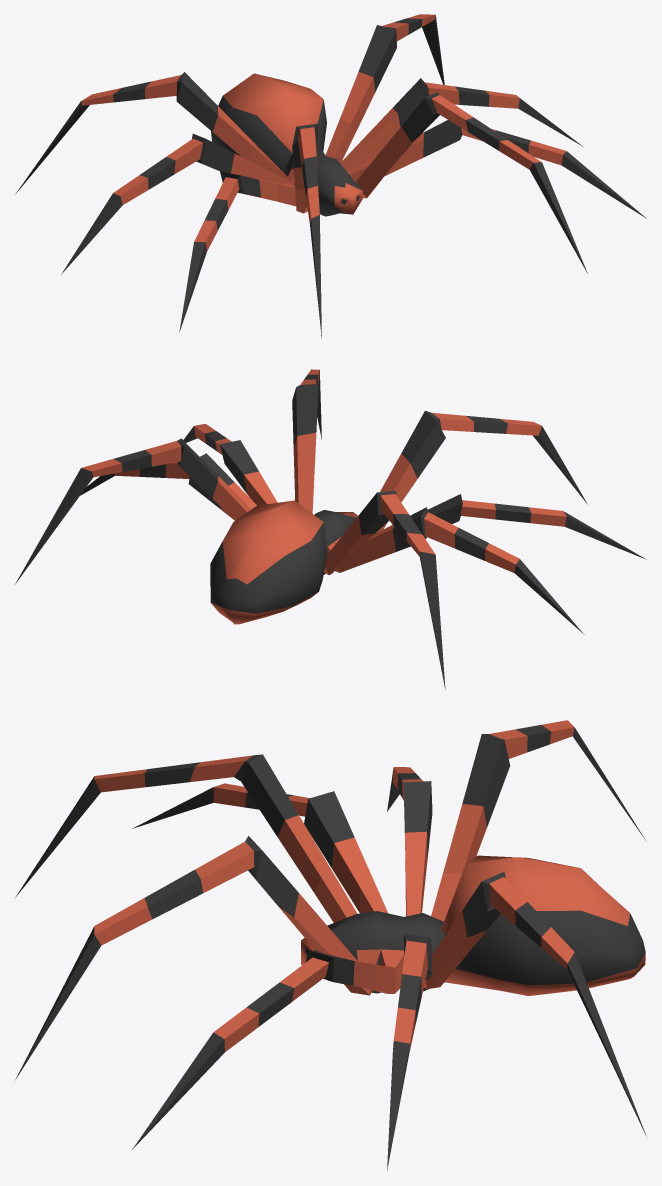
File: spider 3.fbx
3 views of the same model, one above another, from view 1: azimuth 30°, elevation 25°; view 2: azimuth 150°, elevation 25°; view 3: azimuth 270°, elevation 25° (orthographic). The views are drawn at different scales.
Visible parts, largest first — view 1: body.002, leg.005, leg.004, leg.008, leg.003, leg.007, leg.006, leg.002, leg.001, body.001; view 2: body.002, leg.001, leg.008, leg.004, leg.003, leg.005, leg.002, leg.006, leg.007, body.001; view 3: body.002, leg.005, leg.001, leg.004, leg.008, leg.006, leg.002, leg.007, leg.003, body.001.
Boxes of the visible parts, box(x1,y1,x2,y2) form: body.002: box(211, 73, 326, 173); leg.005: box(345, 92, 587, 273); leg.004: box(15, 72, 287, 194); leg.008: box(325, 14, 444, 162); leg.003: box(61, 133, 294, 274); leg.007: box(340, 78, 582, 171); leg.006: box(347, 120, 646, 218); leg.002: box(179, 171, 295, 332); leg.001: box(292, 123, 321, 338); body.001: box(284, 148, 362, 216); body.002: box(210, 500, 326, 624); leg.001: box(375, 411, 587, 533); leg.008: box(15, 438, 250, 584); leg.004: box(324, 491, 445, 690); leg.003: box(327, 507, 584, 634); leg.005: box(292, 369, 321, 513); leg.002: box(334, 494, 646, 559); leg.006: box(183, 423, 277, 505); leg.007: box(80, 453, 256, 519); body.001: box(314, 510, 357, 574); body.002: box(441, 855, 645, 995); leg.005: box(15, 836, 380, 1079); leg.001: box(14, 754, 357, 922); leg.004: box(431, 720, 646, 921); leg.008: box(424, 871, 646, 1136); leg.006: box(132, 949, 404, 1149); leg.002: box(132, 783, 387, 913); leg.007: box(387, 934, 432, 1170); leg.003: box(387, 767, 432, 916); body.001: box(301, 911, 444, 993).
Bounding box in the file's own units: 102 × 25.63 × 76.3.
